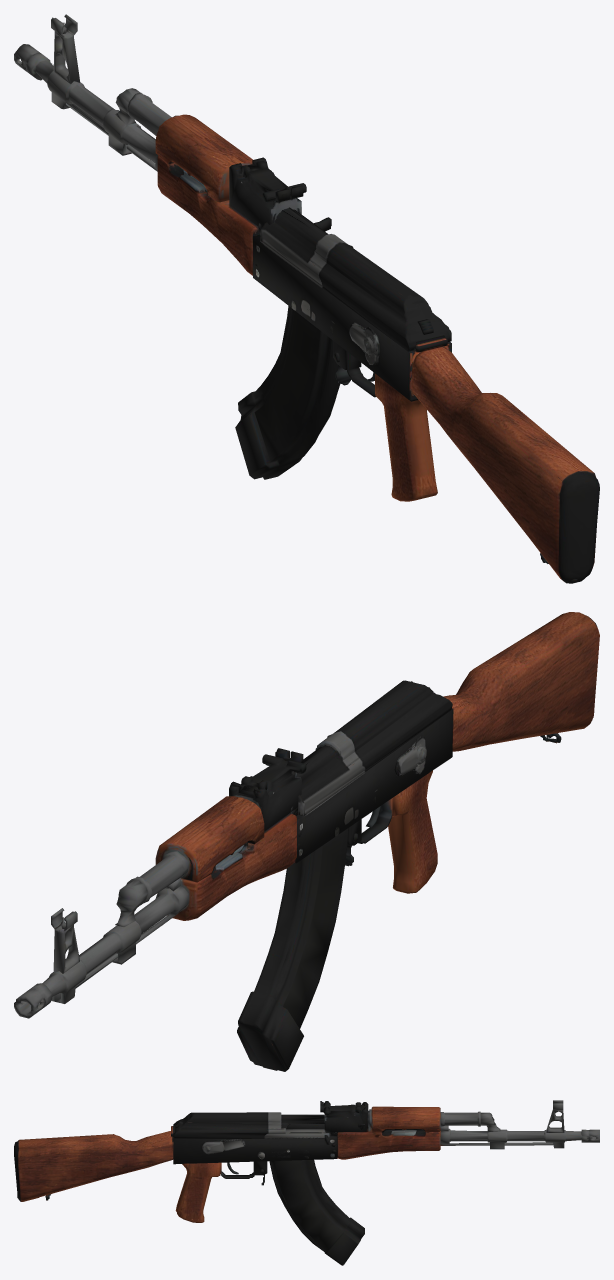
3 views of the same model, one above another, from view 1: azimuth 30°, elevation 25°; view 2: azimuth 150°, elevation 25°; view 3: azimuth 270°, elevation 25° (orthographic). The views are drawn at different scales.
Visible parts, largest first — view 1: tripo_node_bb1ba3d3-b42b-47ed-8d1d-f8d12c430d4e; view 2: tripo_node_bb1ba3d3-b42b-47ed-8d1d-f8d12c430d4e; view 3: tripo_node_bb1ba3d3-b42b-47ed-8d1d-f8d12c430d4e.
Boxes of the visible parts, box(x1,y1,x2,y2) form: tripo_node_bb1ba3d3-b42b-47ed-8d1d-f8d12c430d4e: box(14, 14, 599, 583); tripo_node_bb1ba3d3-b42b-47ed-8d1d-f8d12c430d4e: box(14, 612, 599, 1071); tripo_node_bb1ba3d3-b42b-47ed-8d1d-f8d12c430d4e: box(14, 1100, 599, 1265).
Size of the model in its own units: 0.2248 by 0.85 by 2.8.
1 material, 1 textured.
